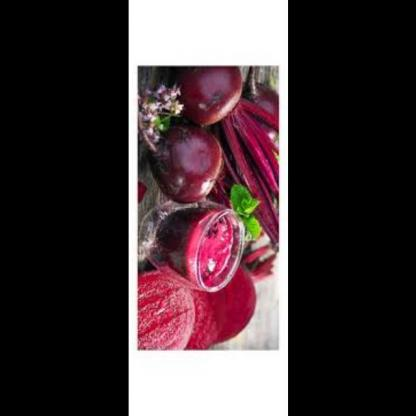beet: (138, 264, 253, 349), (150, 127, 224, 200), (168, 63, 244, 129)
